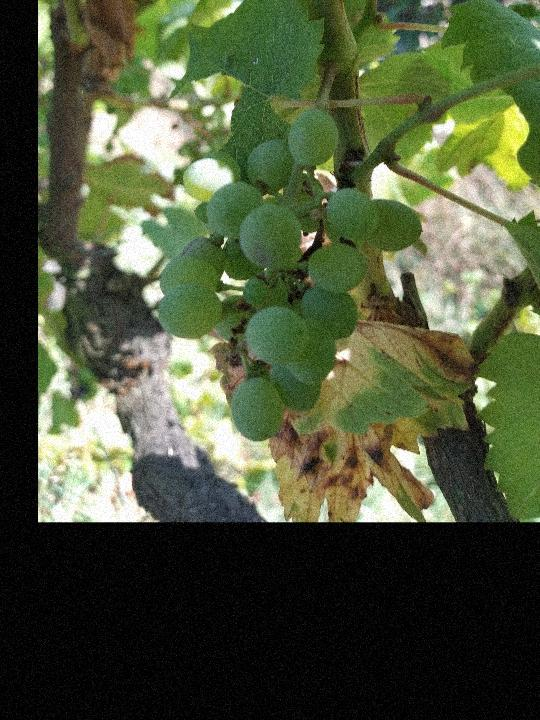grape: (154, 101, 424, 446)
